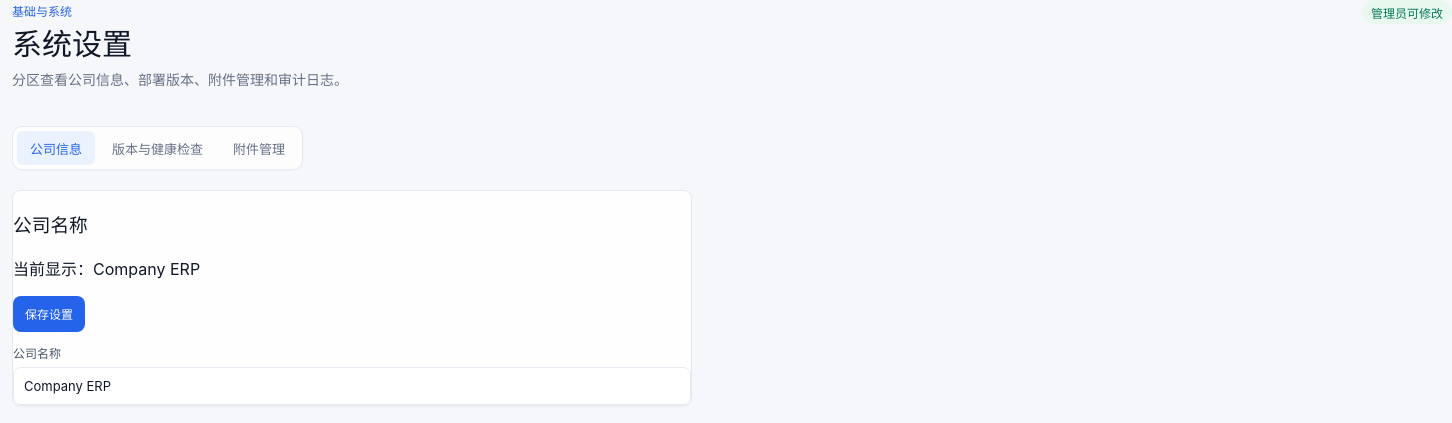
SystemSettingsWorkspace › shows an attachment download error without exposing a server path
Click the tab "附件管理" at (259, 148), box [220,132,298,166]
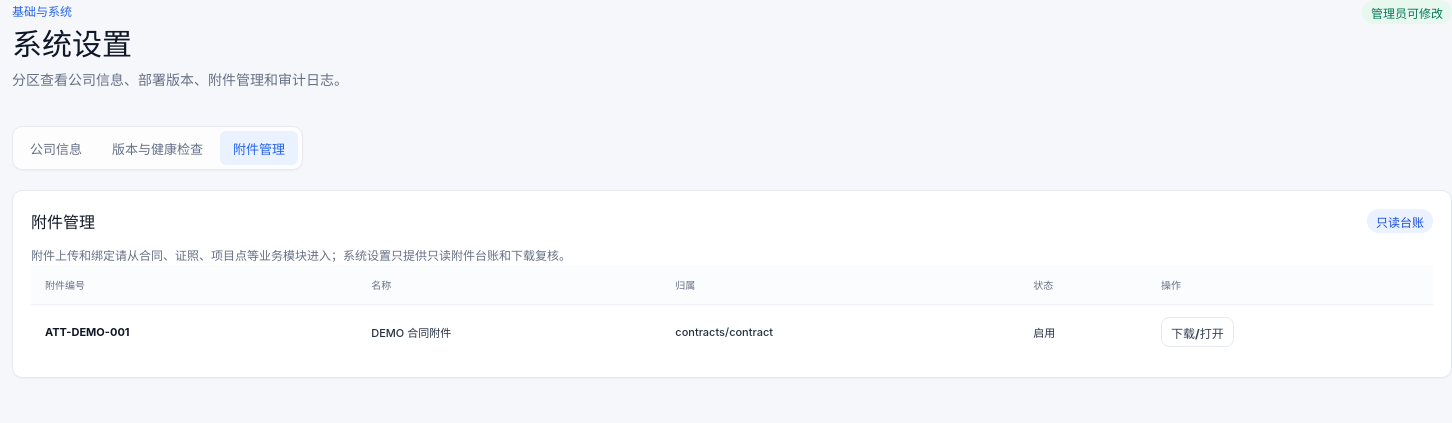
Now the text "DEMO 合同附件" is shown, box [361,305,665,360]
Click the button with aria-label "下载/打开 DEMO 合同附件" at (1197, 332), box [1161,318,1234,348]
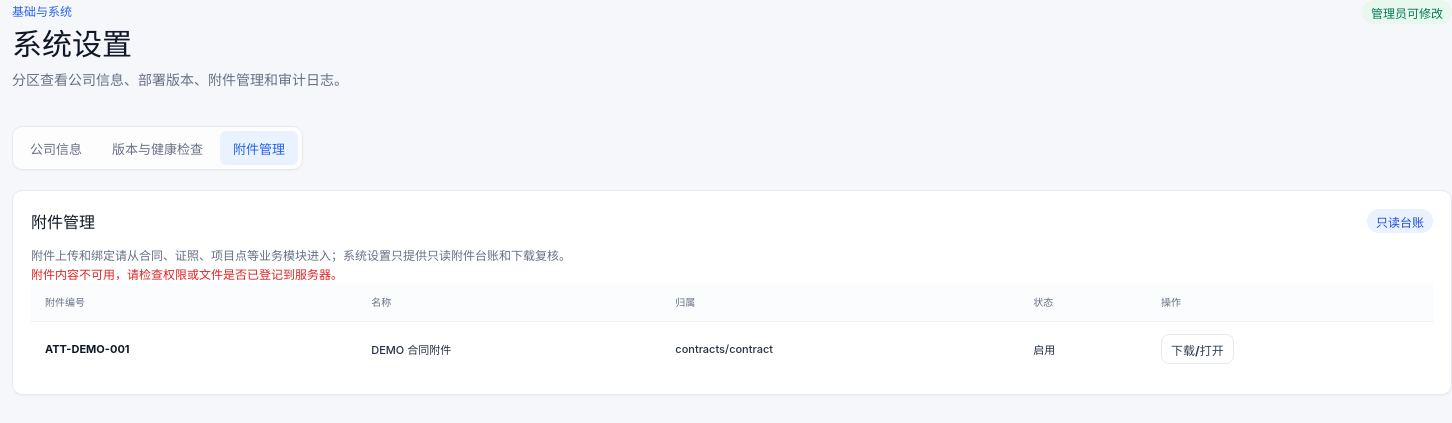
Expected: the text "附件内容不可用，请检查权限或文件是否已登记到服务器。" does not show "/volume1", [31,268,343,282]
Now the text "附件内容不可用，请检查权限或文件是否已登记到服务器。" is shown, box [31,268,343,282]
